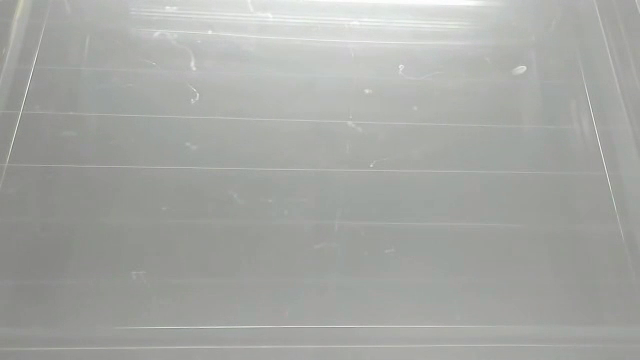alpha: (508, 63, 531, 79)
